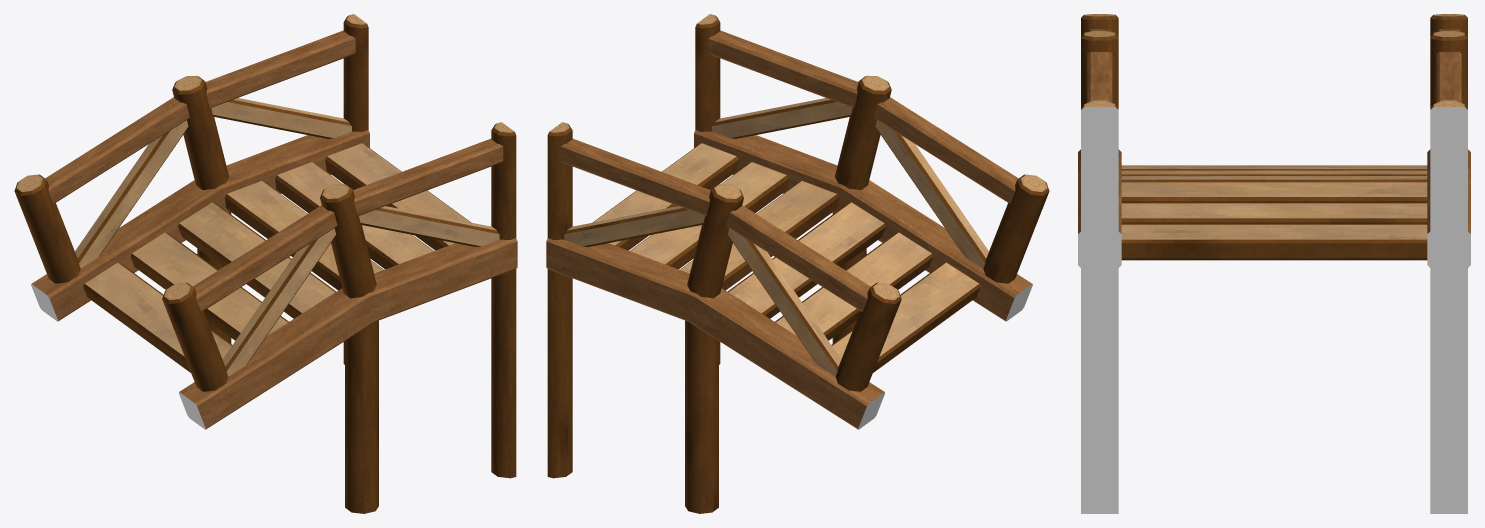
File: Prop_Bridge_End_2x2.glb
3 views of the same model, side by side, from view 1: azimuth 30°, elevation 25°; view 2: azimuth 150°, elevation 25°; view 3: azimuth 270°, elevation 25° (orthographic). The views are drawn at different scales.
Parts seen in each view (by area): view 1: Prop_Bridge_End_2x2; view 2: Prop_Bridge_End_2x2; view 3: Prop_Bridge_End_2x2.
Boxes of the visible parts, x1,y1,x2,y2 form: Prop_Bridge_End_2x2: (14, 14, 517, 513); Prop_Bridge_End_2x2: (546, 14, 1049, 513); Prop_Bridge_End_2x2: (1078, 14, 1470, 513).
Bounding box in the file's own units: 235 × 225 × 197.
5 materials, 4 textured.
